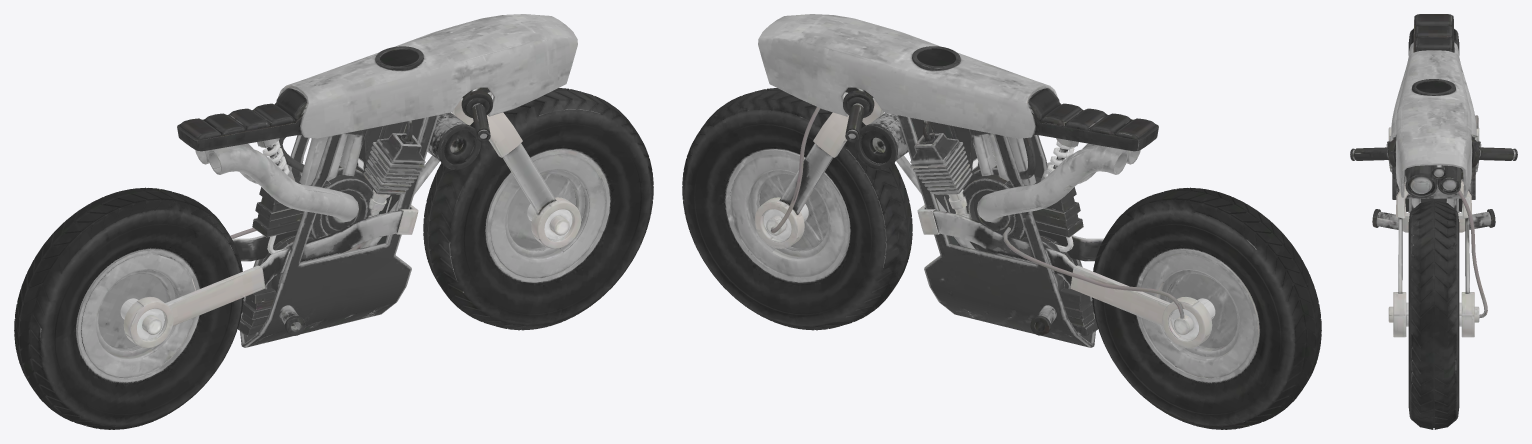
File: bike.glb
3 views of the same model, side by side, from view 1: azimuth 30°, elevation 25°; view 2: azimuth 150°, elevation 25°; view 3: azimuth 270°, elevation 25° (orthographic). The views are drawn at different scales.
Visible parts, largest first — view 1: defaultMaterial; view 2: defaultMaterial; view 3: defaultMaterial.
Part boxes in pixels (x1,y1,x2,y2): defaultMaterial: (14, 14, 653, 429); defaultMaterial: (682, 14, 1321, 429); defaultMaterial: (1350, 14, 1517, 429).
Size of the model in its own units: 2 by 0.9284 by 0.5115.
Materials: 1 (1 with a texture image).
